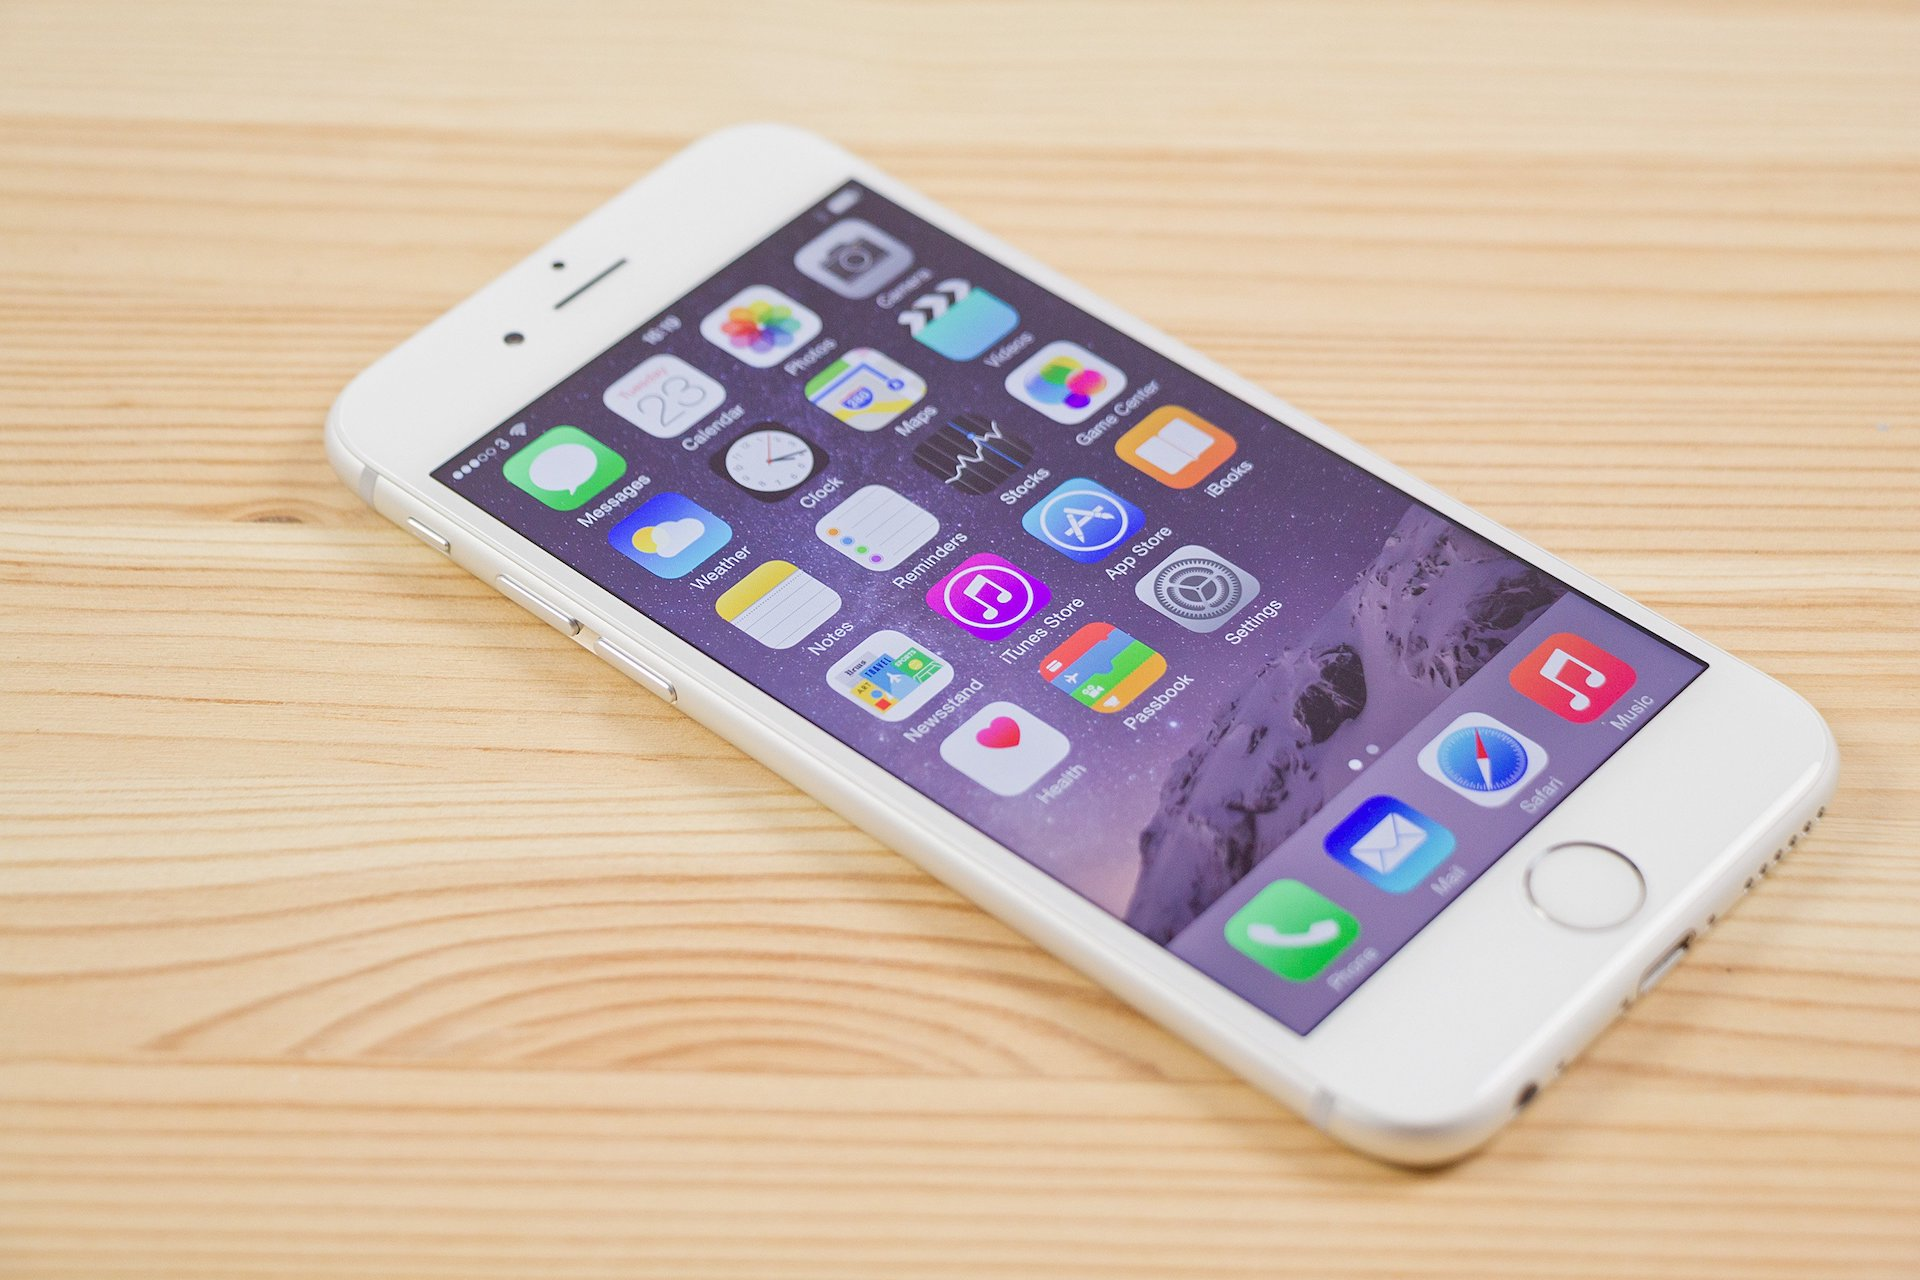smartphone: (319, 111, 1850, 1173)
